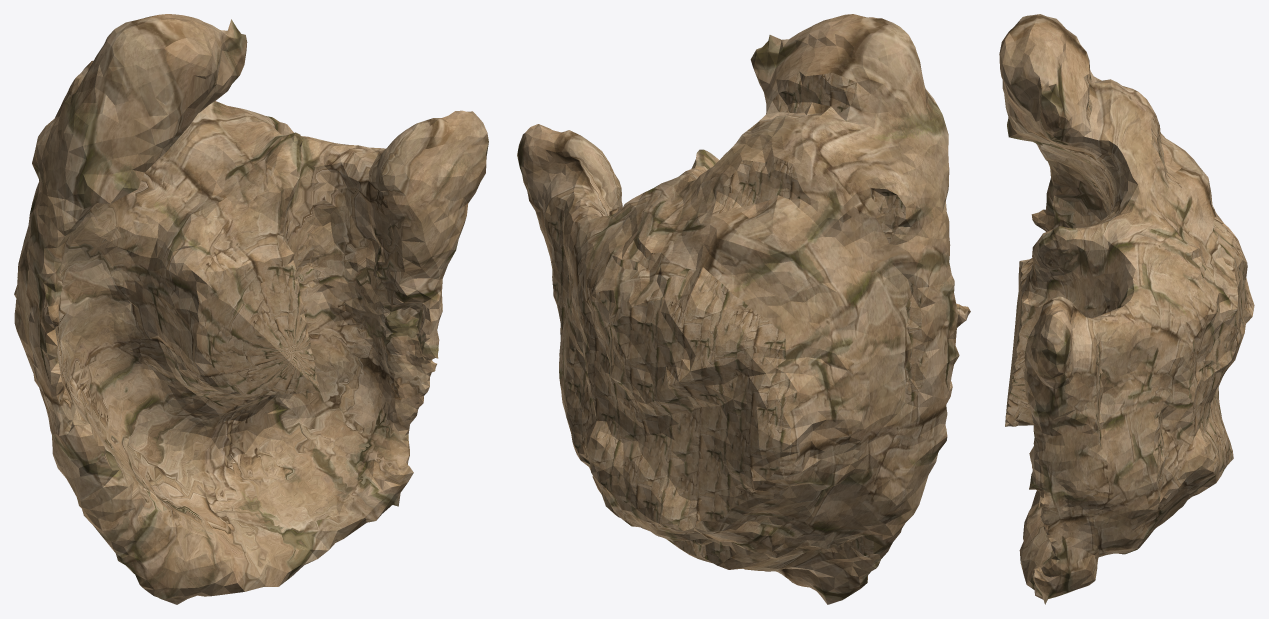
File: Mountain.002.fbx
3 views of the same model, side by side, from view 1: azimuth 30°, elevation 25°; view 2: azimuth 150°, elevation 25°; view 3: azimuth 270°, elevation 25° (orthographic). The views are drawn at different scales.
Visible parts, largest first — view 1: Mountain.003; view 2: Mountain.003; view 3: Mountain.003.
Boxes of the visible parts, x1,y1,x2,y2 form: Mountain.003: (14, 14, 488, 604); Mountain.003: (517, 14, 970, 604); Mountain.003: (999, 14, 1254, 604).
Size of the model in its own units: 3793 by 4814 by 2142.
Materials: 1 (1 with a texture image).
